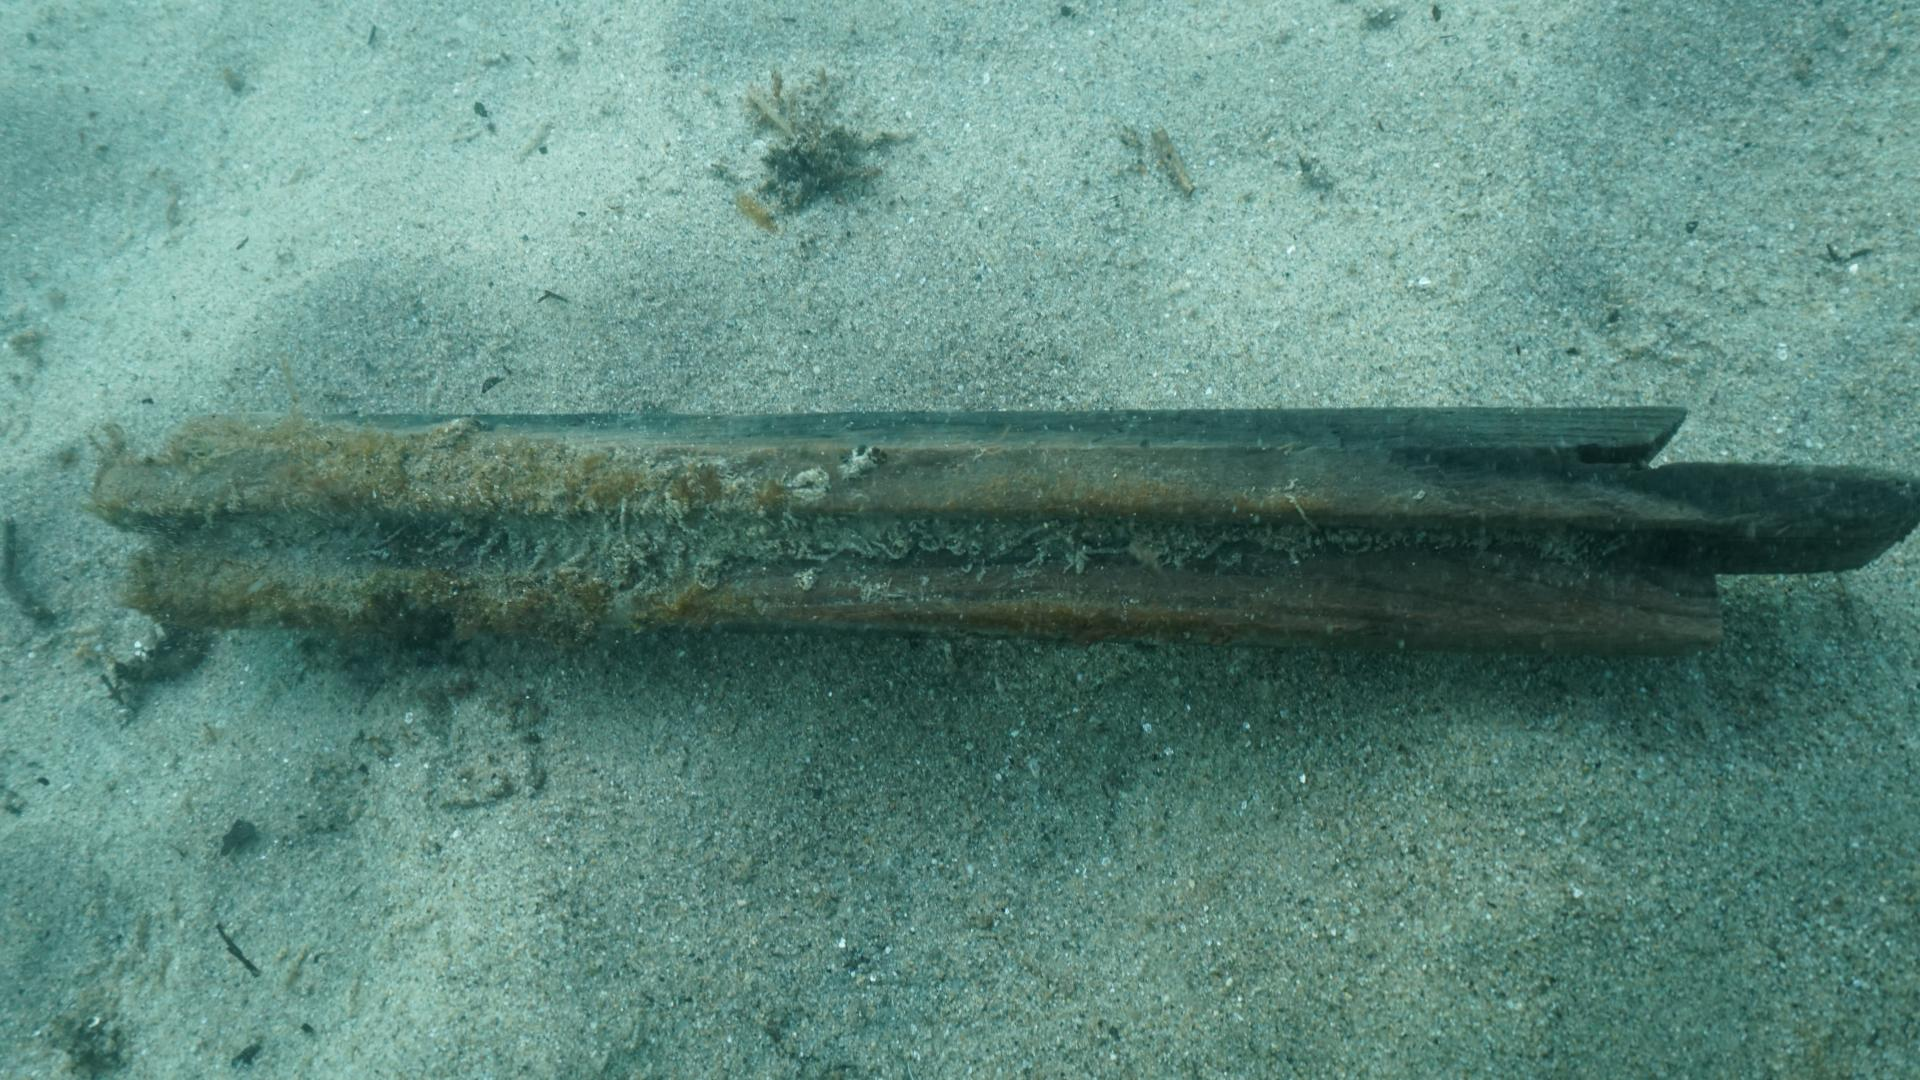wood: (86, 407, 1920, 651)
